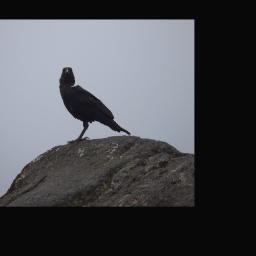Crow: (58, 66, 131, 143)
